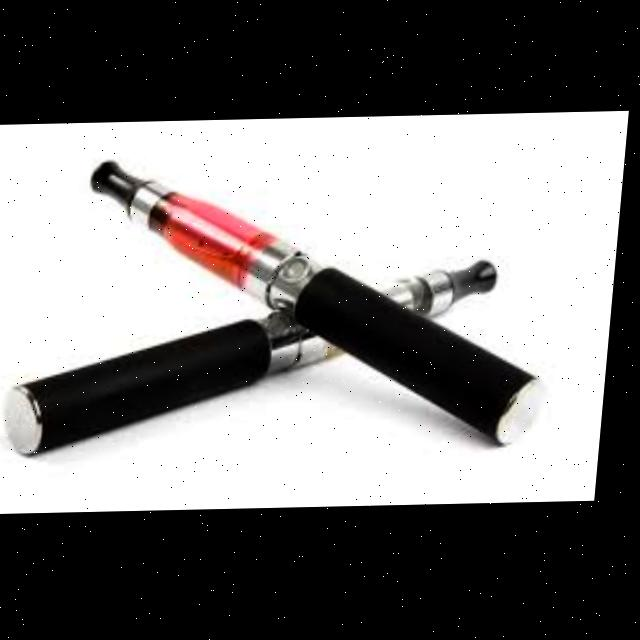vape: (73, 152, 569, 458), (9, 261, 506, 457)
